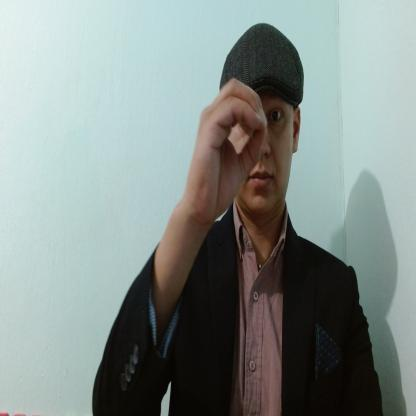O: (185, 76, 269, 222)
